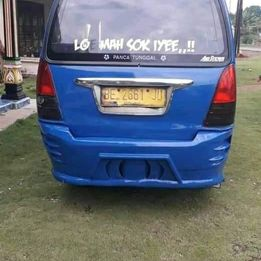plate: (100, 83, 165, 108)
